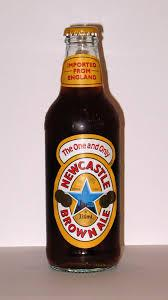Glass bottle: (39, 18, 131, 283)
